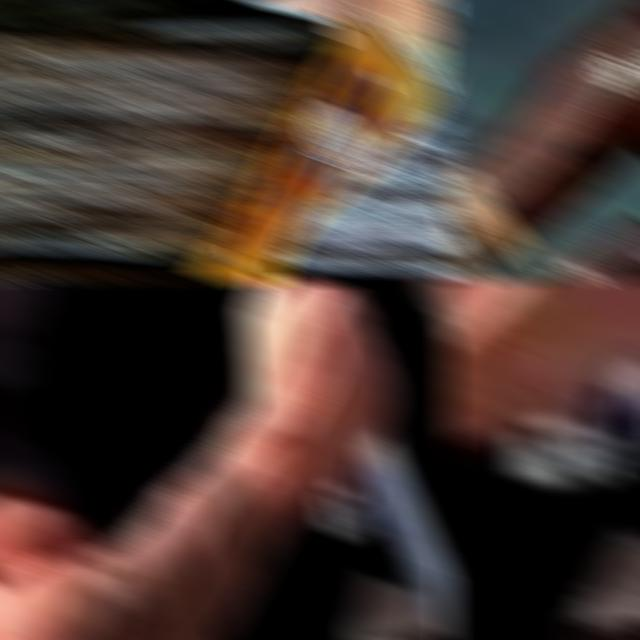Knife: (352, 424, 454, 640)
Knife_Handle: (242, 279, 454, 640), (442, 279, 640, 640)
